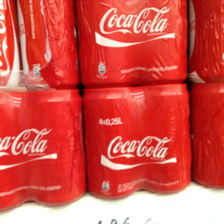soda: (84, 86, 192, 199), (1, 91, 85, 210), (75, 1, 189, 86)
